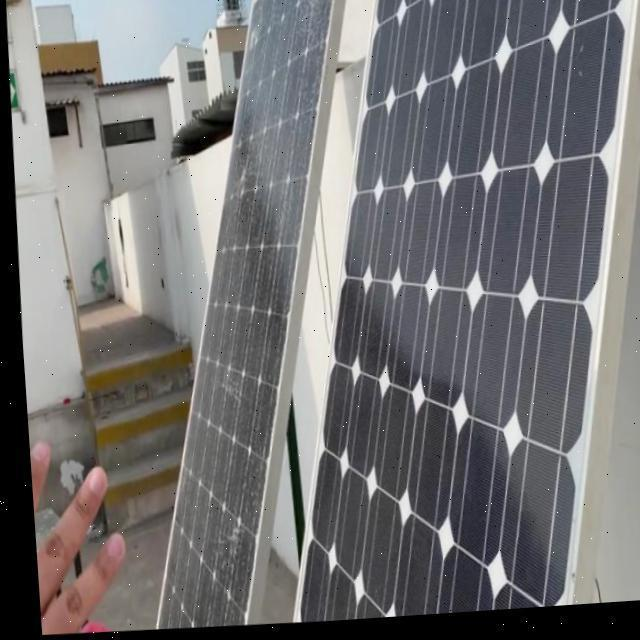Normal Solar Panel: (249, 0, 640, 627)
